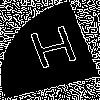H: (25, 24, 85, 80)
